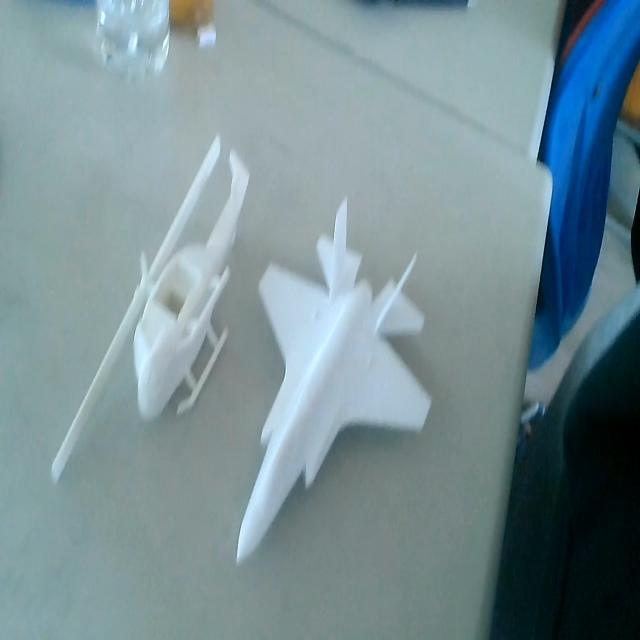Helicopter: (50, 134, 252, 479)
Jet: (235, 189, 433, 567)
